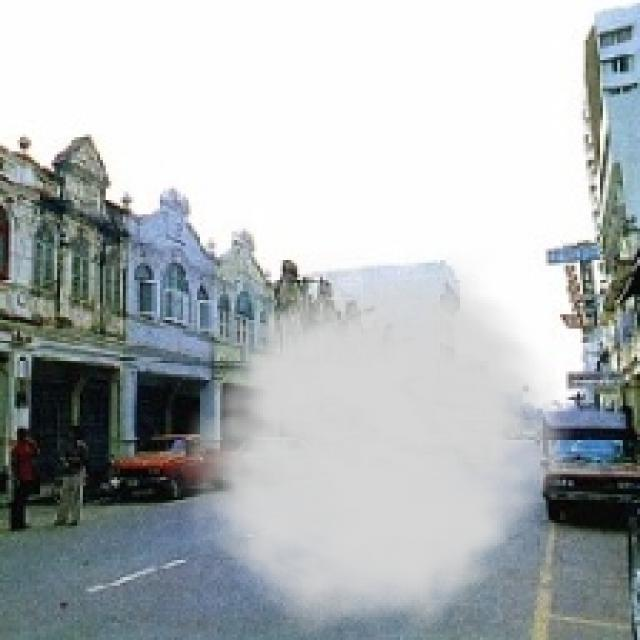Smoke: (165, 252, 586, 637)
